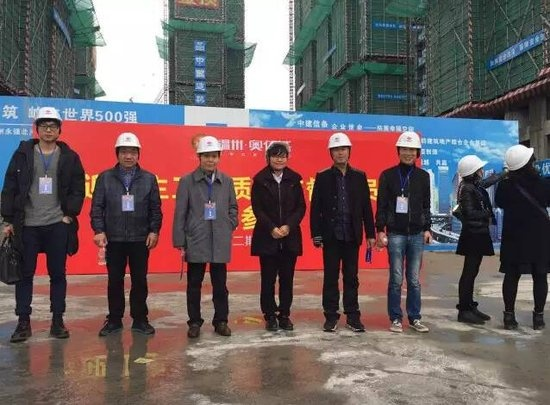white: (505, 144, 538, 178), (33, 105, 62, 143), (112, 131, 141, 167), (394, 130, 422, 167), (325, 132, 354, 166), (194, 135, 220, 171), (262, 142, 292, 170), (456, 154, 484, 183)
